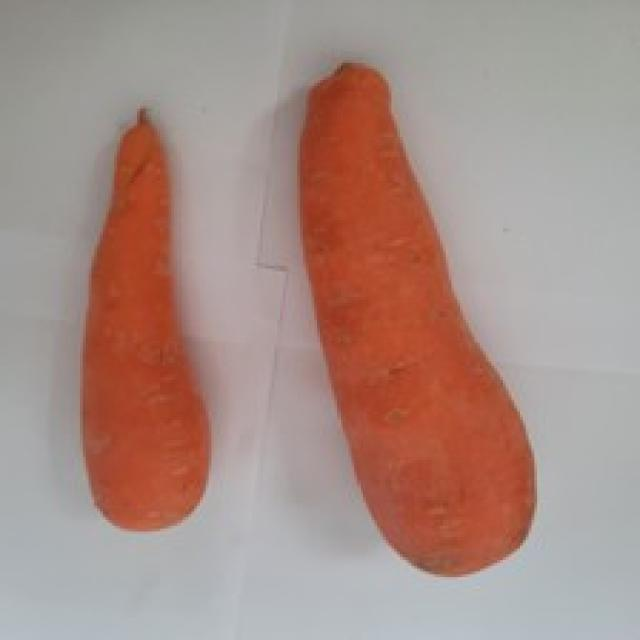Fresh_Carrot: (284, 57, 542, 628), (98, 113, 248, 598)
